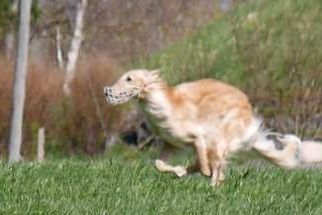borzoi: (99, 66, 311, 190)
